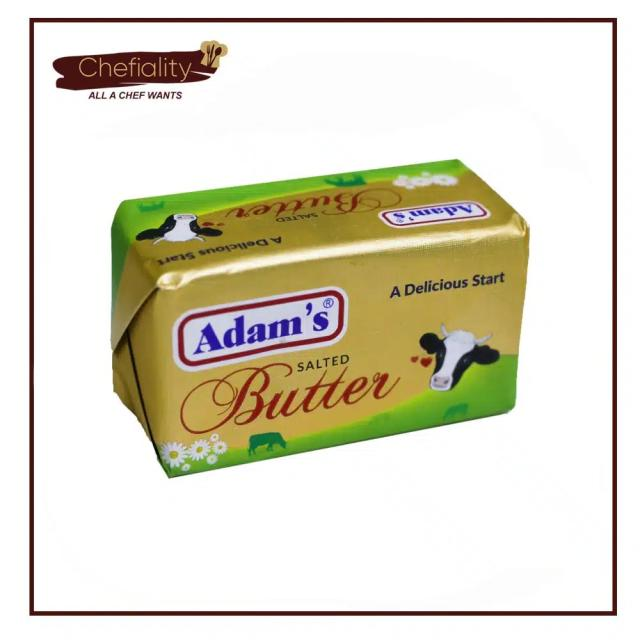butter: (109, 157, 530, 479)
